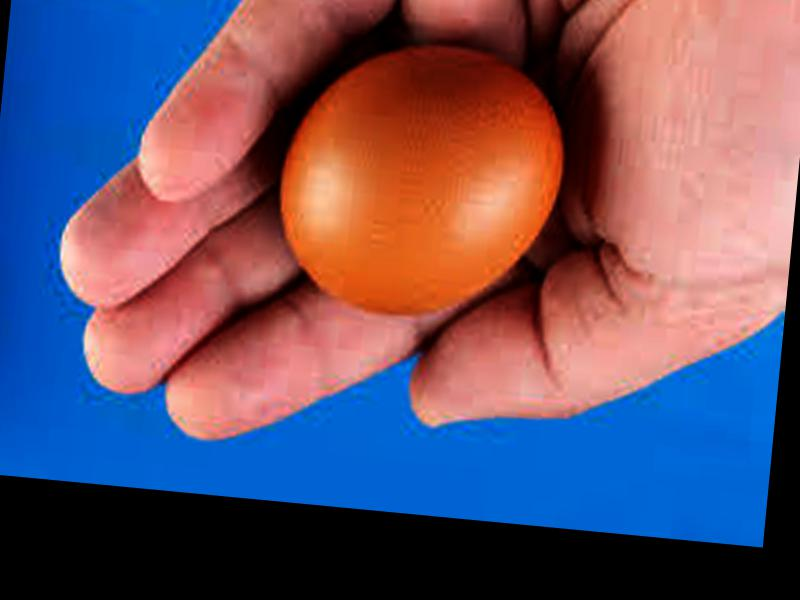Eggs: (265, 37, 571, 328)
